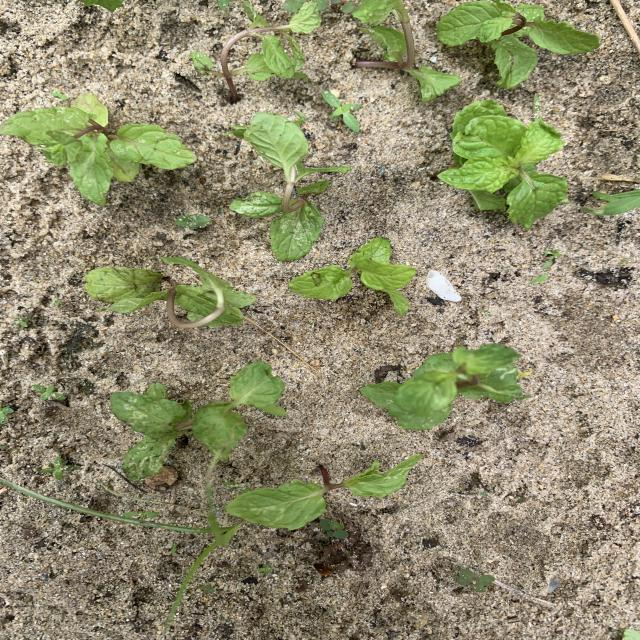crop: (1, 95, 195, 203), (111, 362, 286, 479), (229, 115, 348, 259), (437, 101, 567, 227), (227, 456, 423, 529), (361, 344, 526, 429), (437, 1, 599, 87), (191, 1, 321, 96), (84, 260, 255, 328), (351, 0, 460, 102), (289, 237, 415, 314), (84, 1, 123, 10)
weed: (0, 460, 235, 628), (165, 460, 235, 628), (324, 91, 361, 130), (456, 568, 495, 591), (42, 457, 75, 478), (175, 214, 211, 230), (320, 519, 347, 538), (33, 384, 66, 399), (122, 511, 158, 519), (544, 249, 561, 262), (1, 406, 14, 422), (198, 584, 215, 594), (531, 275, 547, 283), (13, 317, 27, 326), (52, 91, 67, 99), (295, 112, 306, 122), (258, 565, 271, 573), (218, 1, 230, 8), (170, 543, 177, 555), (54, 299, 62, 305)
